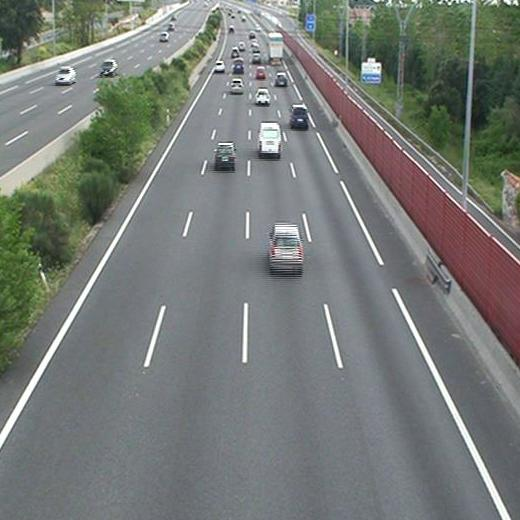car: (270, 225, 303, 271), (216, 143, 236, 166), (291, 106, 308, 126), (255, 89, 271, 104), (229, 79, 244, 92), (275, 72, 288, 85), (255, 67, 266, 78), (215, 61, 224, 72), (252, 53, 261, 63), (230, 48, 239, 58)
truck: (268, 33, 284, 64)
van: (260, 122, 282, 154), (232, 58, 245, 73)
